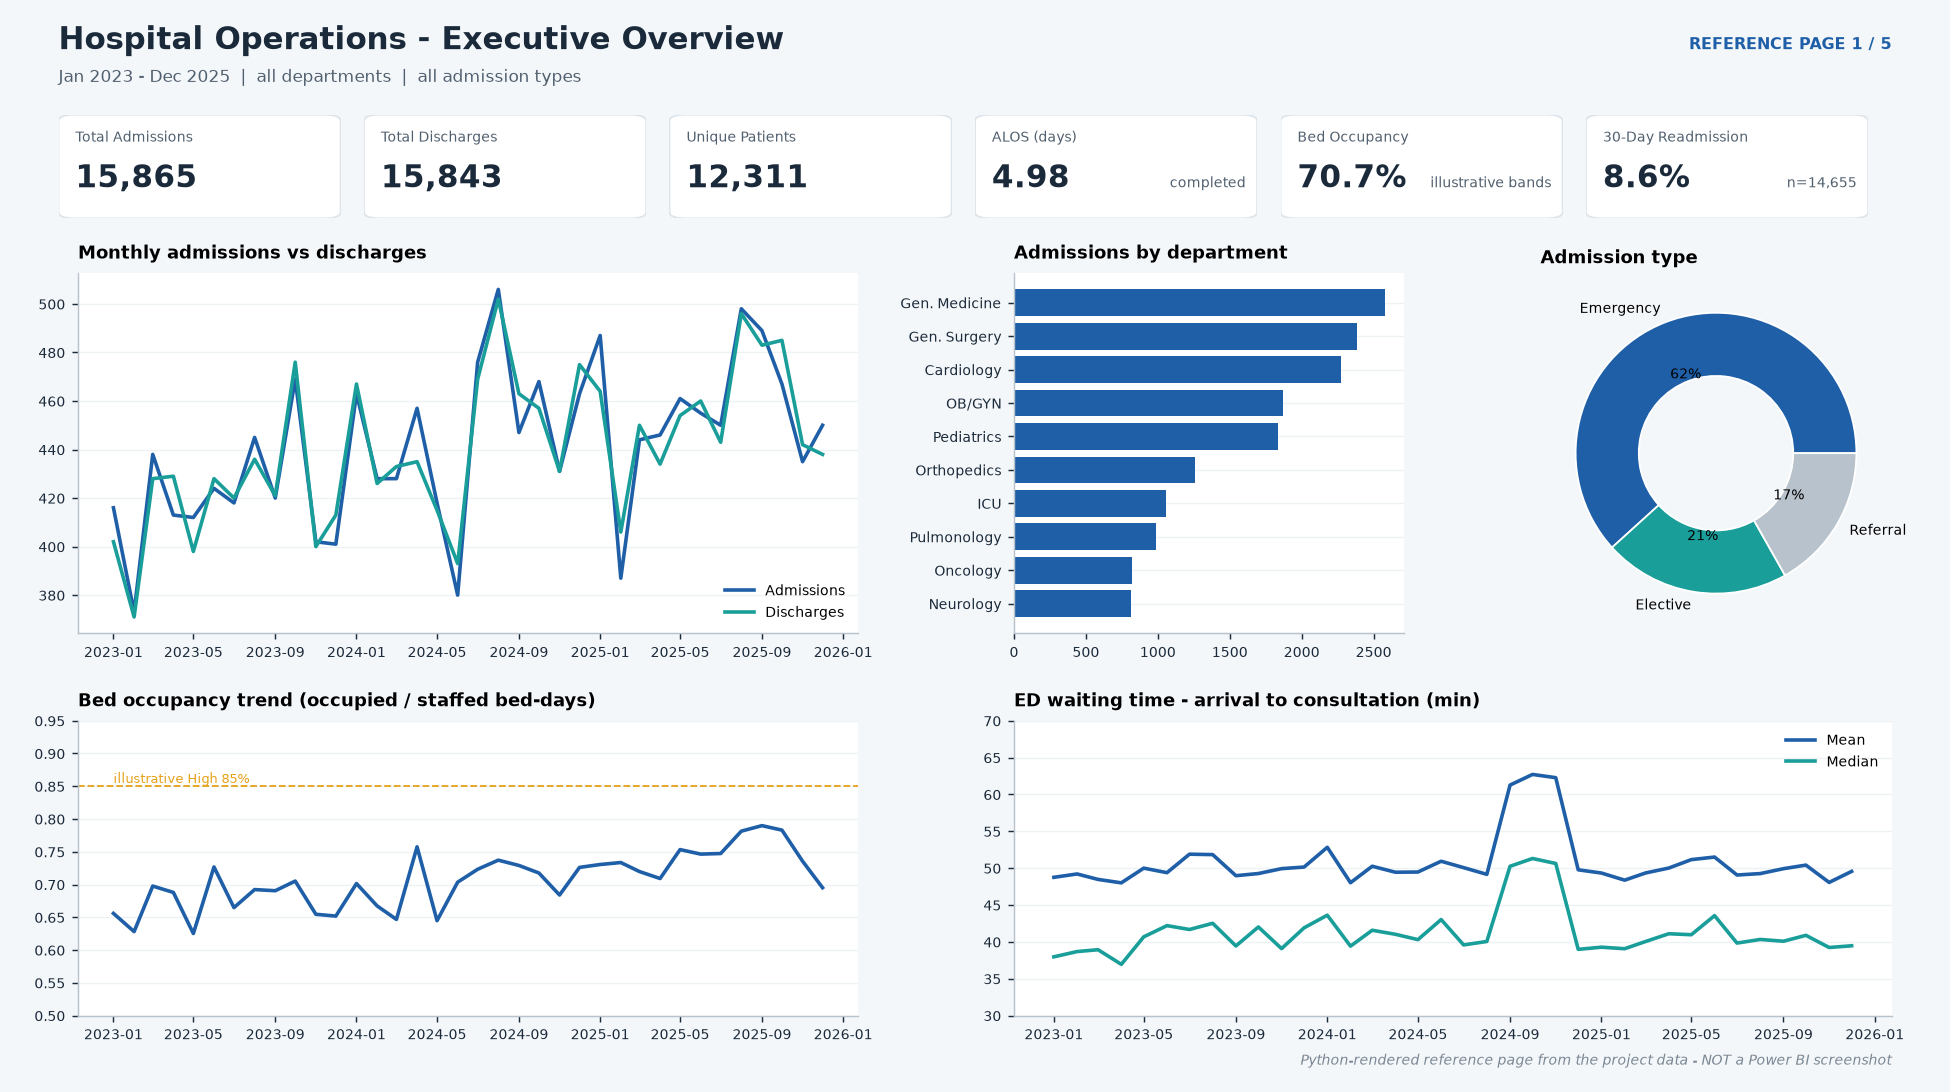

This screenshot's page, from the dashboard's own definition file:
{"tool":"powerbi","page":{"name":"Executive Overview","canvas":[1280,720],"ordinal":0},"visuals":[{"type":"textbox","box":[16,2,900,44],"z":100},{"type":"textbox","box":[16,42,1240,30],"z":200},{"type":"textbox","box":[780,690,484,30],"z":300},{"type":"slicer","title":"Year","fields":{"Values":["DimDate.Year"]},"box":[16,70,220,58],"z":400},{"type":"slicer","title":"Department","fields":{"Values":["DimDepartments.DepartmentName"]},"box":[248,70,220,58],"z":500},{"type":"slicer","title":"Admission type","fields":{"Values":["FactAdmissions.AdmissionType"]},"box":[480,70,220,58],"z":600},{"type":"card","title":"Total admissions","fields":{"Values":["_Measures.Total Admissions"]},"box":[16,132,195,80],"z":700},{"type":"card","title":"Total discharges","fields":{"Values":["_Measures.Total Discharges"]},"box":[223,132,195,80],"z":800},{"type":"card","title":"Unique patients","fields":{"Values":["_Measures.Total Unique Patients"]},"box":[430,132,195,80],"z":900},{"type":"card","title":"ALOS (days)","fields":{"Values":["_Measures.ALOS"]},"box":[637,132,195,80],"z":1000},{"type":"card","title":"Bed occupancy rate","fields":{"Values":["_Measures.Bed Occupancy Rate"]},"box":[844,132,195,80],"z":1100},{"type":"card","title":"30-day readmission rate","fields":{"Values":["_Measures.30-Day Readmission Rate"]},"box":[1051,132,195,80],"z":1200},{"type":"lineChart","title":"Monthly admissions and discharges","fields":{"Category":["DimDate.YearMonth"],"Y":["_Measures.Total Admissions","_Measures.Total Discharges"]},"box":[16,222,500,220],"z":1300},{"type":"clusteredBarChart","title":"Admissions by department","fields":{"Category":["DimDepartments.DepartmentName"],"Y":["_Measures.Total Admissions"]},"box":[528,222,400,460],"z":1400},{"type":"donutChart","title":"Admission type mix","fields":{"Category":["FactAdmissions.AdmissionType"],"Y":["_Measures.Total Admissions"]},"box":[940,222,324,220],"z":1500},{"type":"lineChart","title":"Bed occupancy trend (occupied / staffed bed-days)","fields":{"Category":["DimDate.YearMonth"],"Y":["_Measures.Bed Occupancy Rate"]},"box":[16,454,500,228],"z":1600},{"type":"lineChart","title":"ED waiting time (arrival to consultation, min)","fields":{"Category":["DimDate.YearMonth"],"Y":["_Measures.Avg ED Wait (min)","_Measures.Median ED Wait (min)"]},"box":[940,454,324,228],"z":1700}]}

Visuals, with their boxes in screenshot pixels (x1, y1, x2, y2), scaled from the page's 1280x720 canvas onto the 1950x1092 screenshot:
textbox: {"x1": 24, "y1": 3, "x2": 1395, "y2": 70}
textbox: {"x1": 24, "y1": 64, "x2": 1913, "y2": 109}
textbox: {"x1": 1188, "y1": 1046, "x2": 1926, "y2": 1091}
"Year" slicer: {"x1": 24, "y1": 106, "x2": 360, "y2": 194}
"Department" slicer: {"x1": 378, "y1": 106, "x2": 713, "y2": 194}
"Admission type" slicer: {"x1": 731, "y1": 106, "x2": 1066, "y2": 194}
"Total admissions" card: {"x1": 24, "y1": 200, "x2": 321, "y2": 322}
"Total discharges" card: {"x1": 340, "y1": 200, "x2": 637, "y2": 322}
"Unique patients" card: {"x1": 655, "y1": 200, "x2": 952, "y2": 322}
"ALOS (days)" card: {"x1": 970, "y1": 200, "x2": 1268, "y2": 322}
"Bed occupancy rate" card: {"x1": 1286, "y1": 200, "x2": 1583, "y2": 322}
"30-day readmission rate" card: {"x1": 1601, "y1": 200, "x2": 1898, "y2": 322}
"Monthly admissions and discharges" lineChart: {"x1": 24, "y1": 337, "x2": 786, "y2": 670}
"Admissions by department" clusteredBarChart: {"x1": 804, "y1": 337, "x2": 1414, "y2": 1034}
"Admission type mix" donutChart: {"x1": 1432, "y1": 337, "x2": 1926, "y2": 670}
"Bed occupancy trend (occupied / staffed bed-days)" lineChart: {"x1": 24, "y1": 689, "x2": 786, "y2": 1034}
"ED waiting time (arrival to consultation, min)" lineChart: {"x1": 1432, "y1": 689, "x2": 1926, "y2": 1034}
